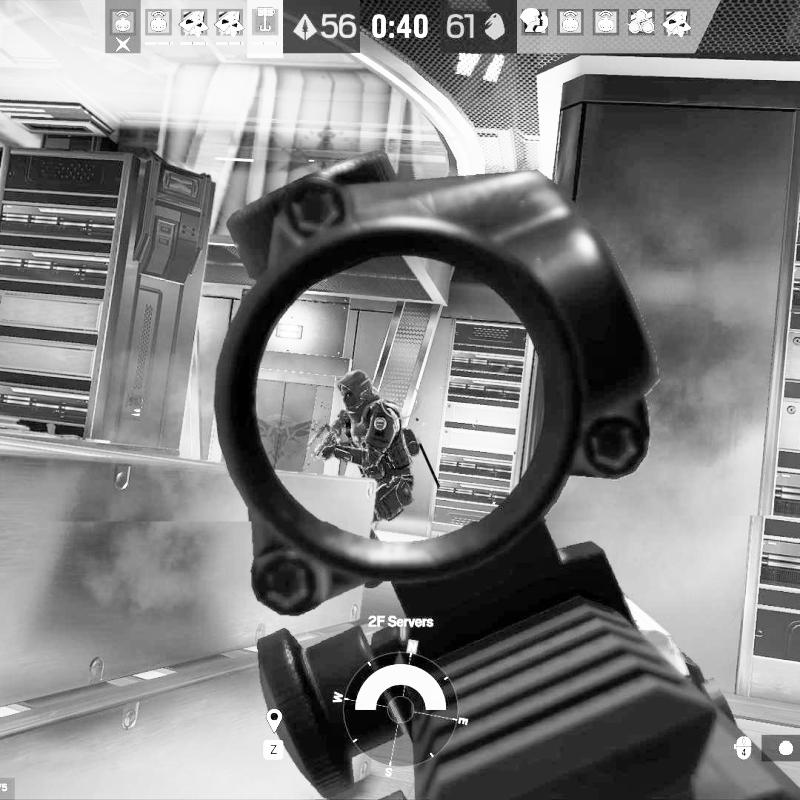Character: (307, 367, 422, 591)
Head: (336, 369, 378, 412)
